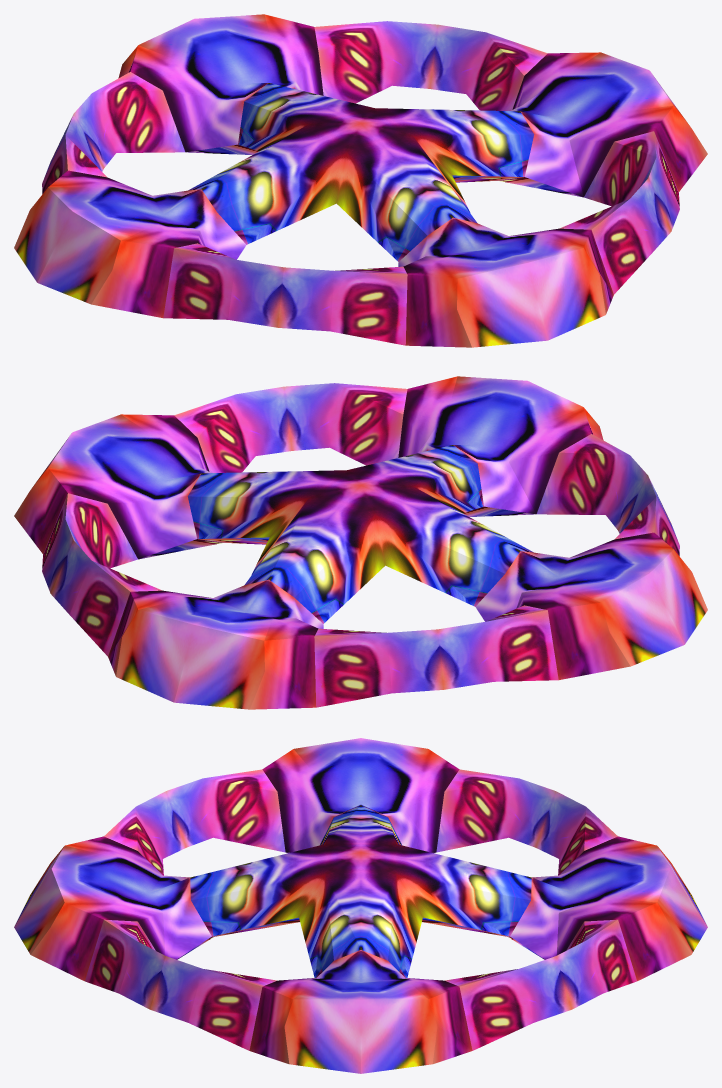
The model's file is ufo-01.fbx.
3 renders of one model, top to bottom at view 1: azimuth 30°, elevation 25°; view 2: azimuth 150°, elevation 25°; view 3: azimuth 270°, elevation 25°, orthographic. The views are drawn at different scales.
Visible parts, largest first — view 1: ufo-01; view 2: ufo-01; view 3: ufo-01.
Part boxes in pixels (box(x1,y1,x2,y2)): ufo-01: box(14, 14, 707, 347); ufo-01: box(14, 376, 707, 709); ufo-01: box(14, 738, 707, 1073).
Size of the model in its own units: 116 by 18.08 by 116.
